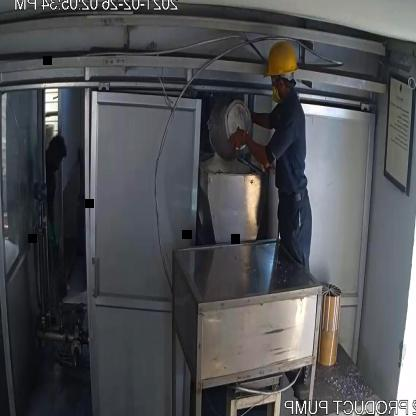helmet: (257, 34, 299, 83)
